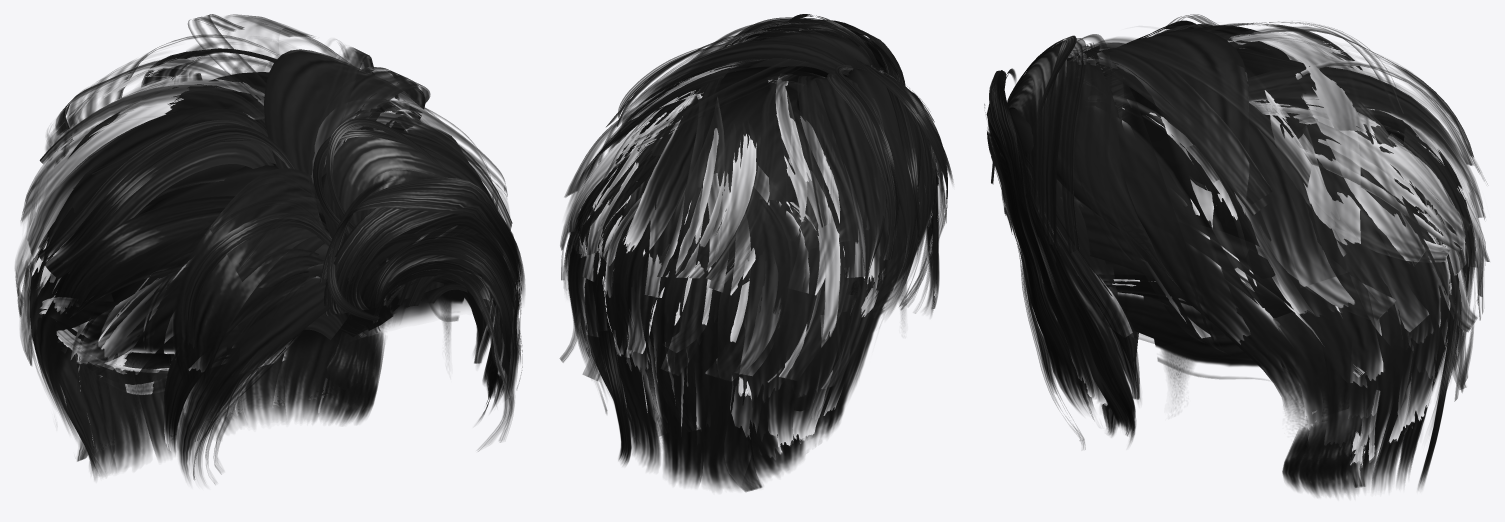
The model's file is diamond_wavy_023_.glb.
3 views of the same model, side by side, from view 1: azimuth 30°, elevation 25°; view 2: azimuth 150°, elevation 25°; view 3: azimuth 270°, elevation 25° (orthographic). The views are drawn at different scales.
Visible parts, largest first — view 1: s4studio_mesh_2.005, Scalp.032; view 2: s4studio_mesh_2.005, Scalp.032; view 3: s4studio_mesh_2.005, Scalp.032.
Boxes of the visible parts, x1,y1,x2,y2 form: s4studio_mesh_2.005: [15, 14, 524, 484]; Scalp.032: [75, 298, 451, 441]; s4studio_mesh_2.005: [559, 14, 953, 491]; Scalp.032: [646, 73, 906, 438]; s4studio_mesh_2.005: [984, 14, 1489, 496]; Scalp.032: [1104, 73, 1386, 450].
Size of the model in its own units: 0.2131 by 0.2401 by 0.2374.
2 materials, 2 textured.
